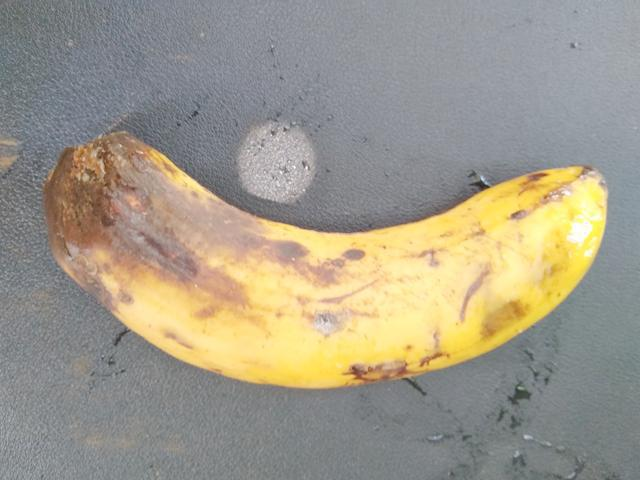rotten: (24, 109, 639, 414)
